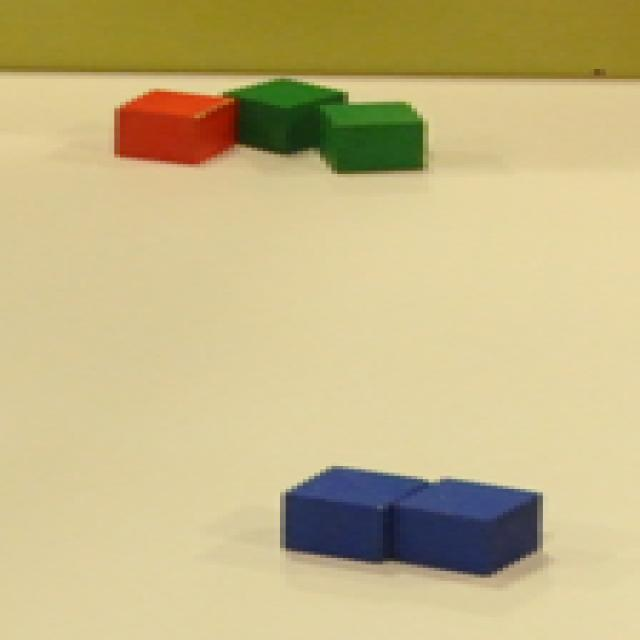bluecube: (391, 477, 545, 576), (285, 466, 425, 562)
green cube: (216, 76, 349, 159), (316, 103, 427, 171)
red cube: (112, 88, 239, 168)
